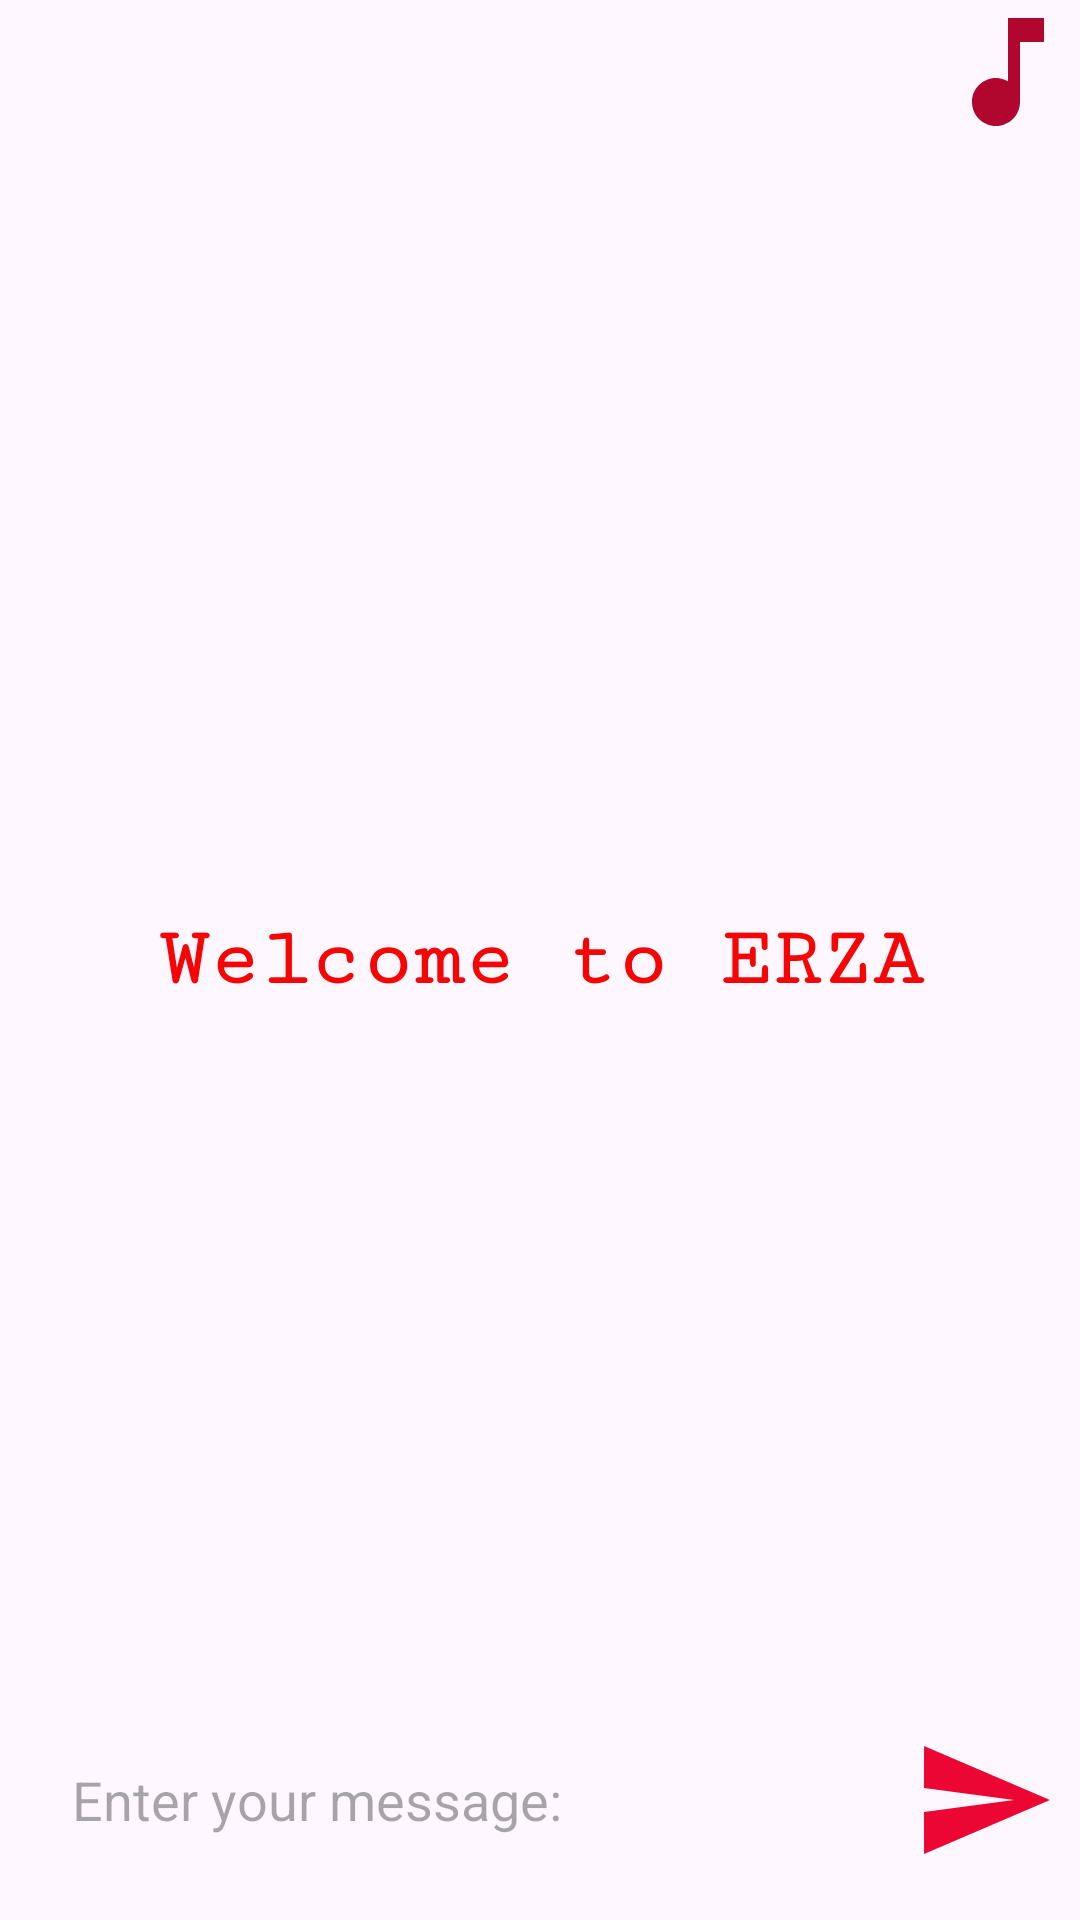

Screen size 1080 x 1920. Icon name, then its box in pixels as (x1, y1, x2, y2):
music note: (972, 18, 1044, 126)
send: (924, 1746, 1050, 1854)
